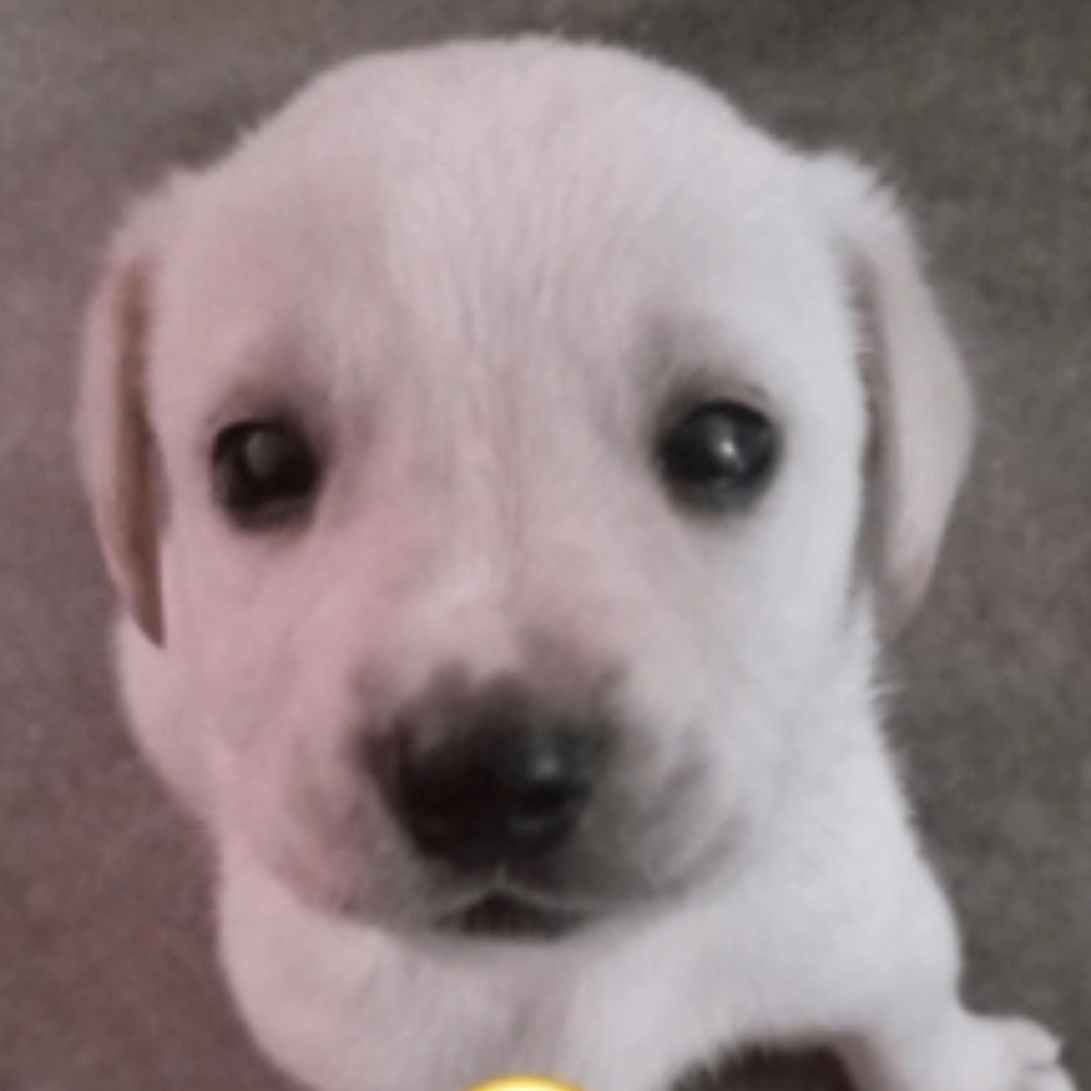puppy-dog: (72, 27, 1079, 1091)
